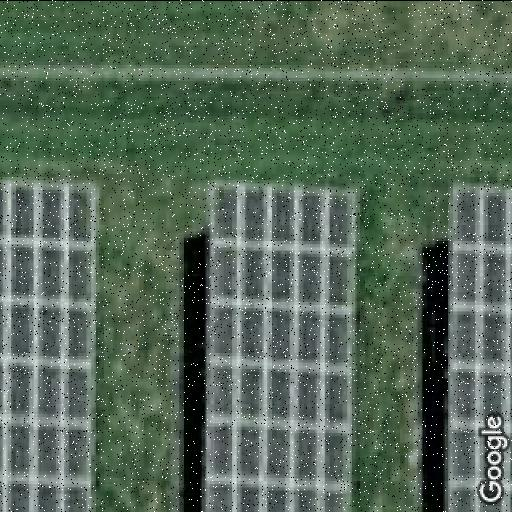solar-panel: (202, 179, 356, 512), (0, 178, 104, 512), (440, 182, 512, 506)
